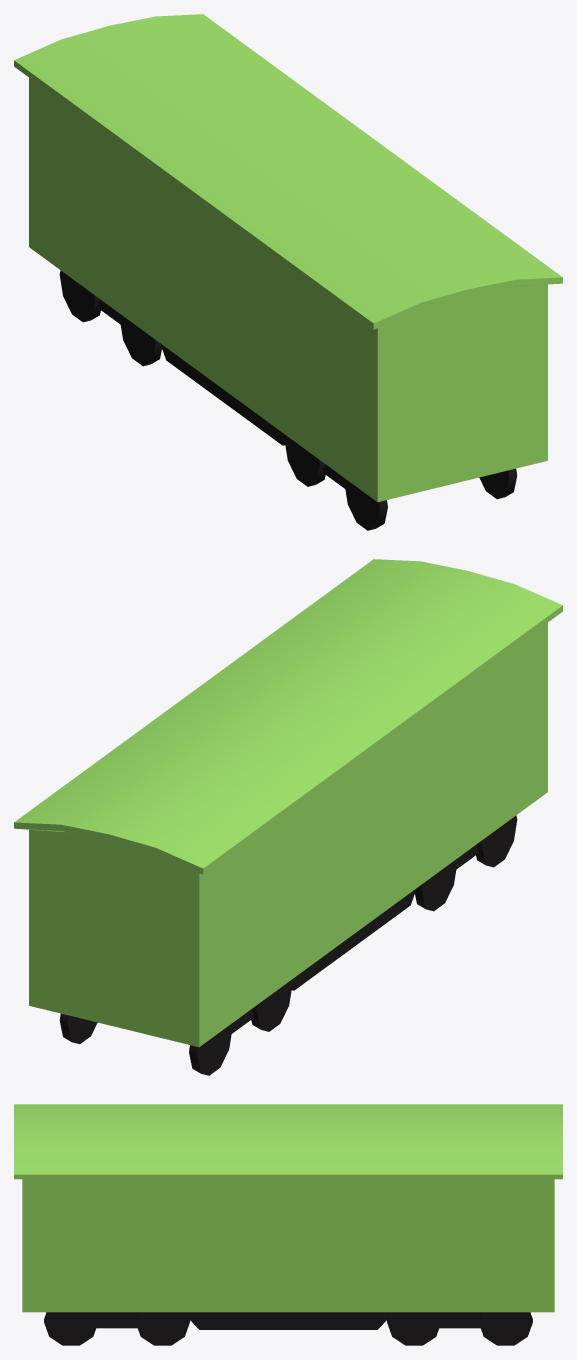
Rendered from mesh_OswiecimTrainPassangerCar.fbx.
The picture shows the model from 3 angles, top to bottom: view 1: azimuth 30°, elevation 25°; view 2: azimuth 150°, elevation 25°; view 3: azimuth 270°, elevation 25°; orthographic projection. The views are drawn at different scales.
Parts seen in each view (by area): view 1: mesh_OswiecimTrainPassangerCar; view 2: mesh_OswiecimTrainPassangerCar; view 3: mesh_OswiecimTrainPassangerCar.
Boxes of the visible parts, box(x1,y1,x2,y2) form: mesh_OswiecimTrainPassangerCar: box(14, 14, 562, 530); mesh_OswiecimTrainPassangerCar: box(14, 559, 562, 1075); mesh_OswiecimTrainPassangerCar: box(14, 1104, 562, 1345).
Size of the model in its own units: 238 by 299 by 784.
